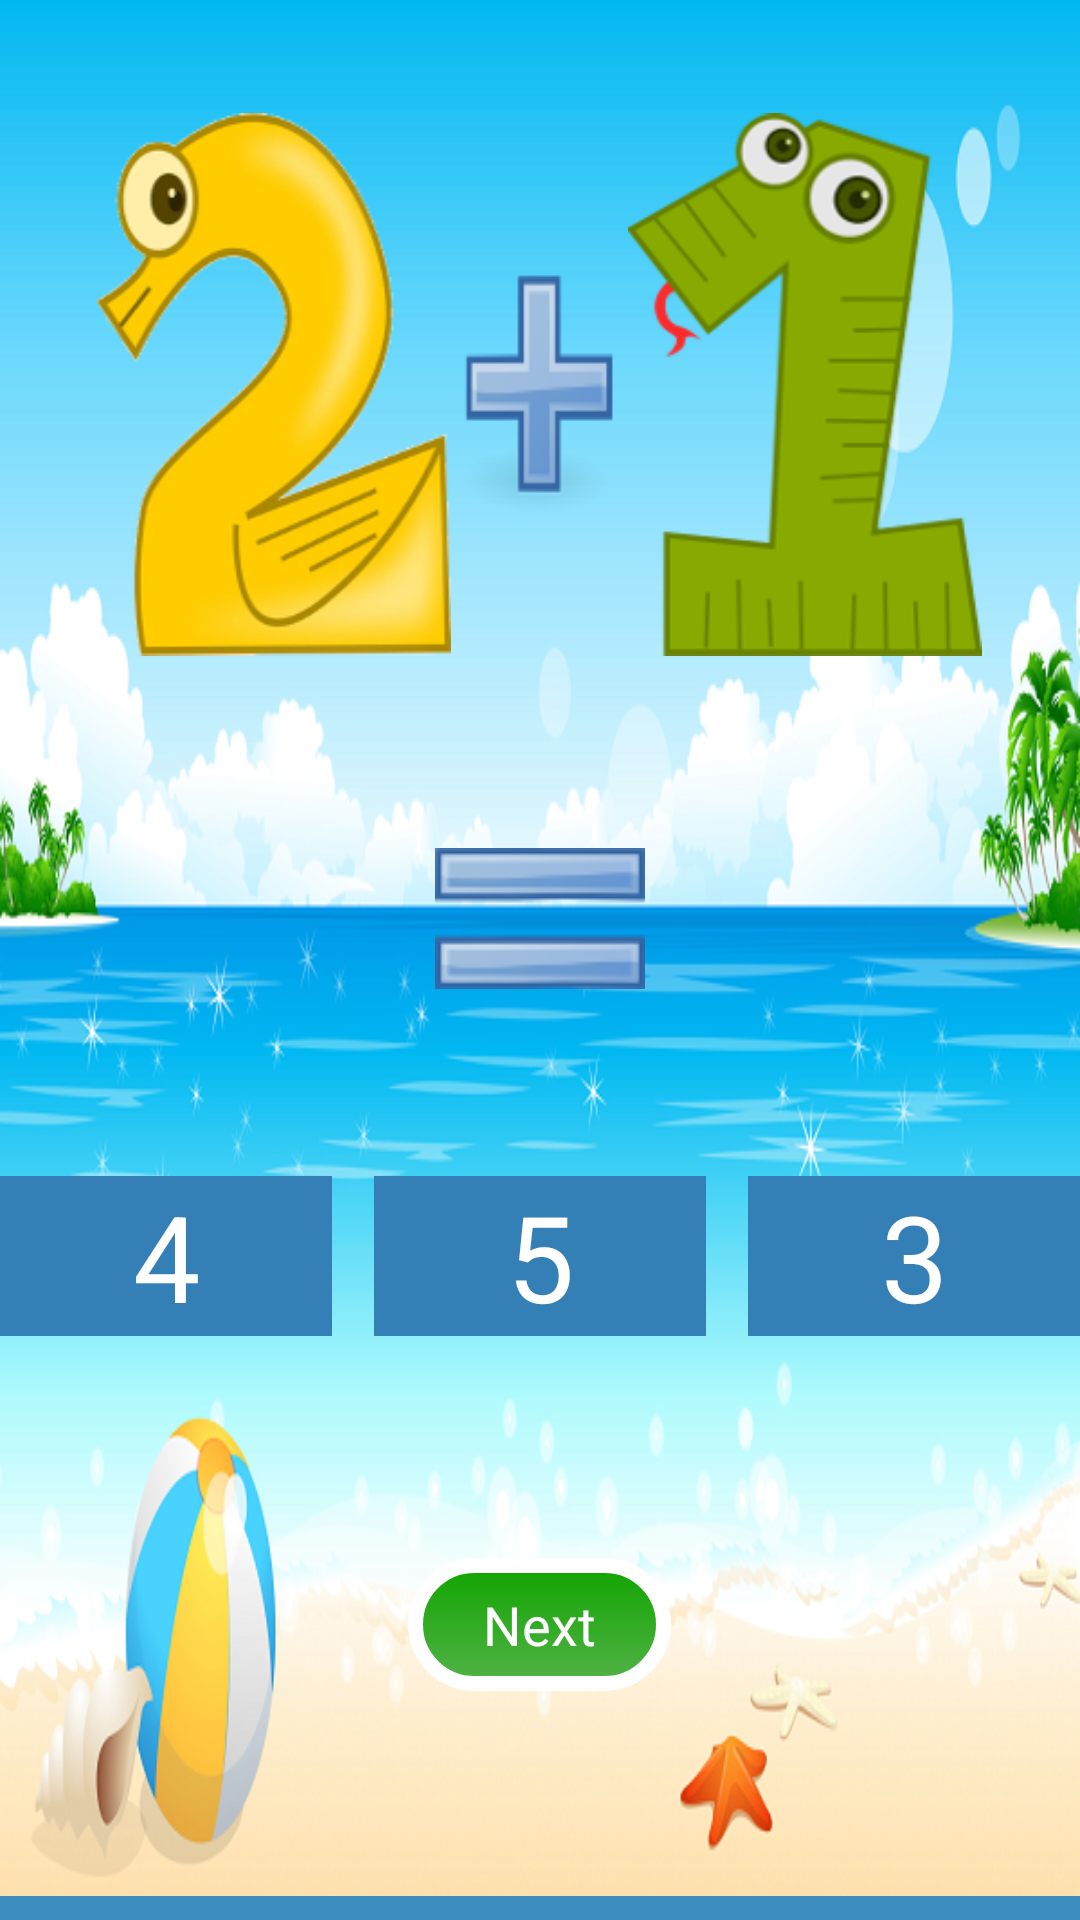

Named icons in this screenshot (1080×1920) and their centers, (x,y):
equalsign: (540,918)
signaddition: (539,384)
